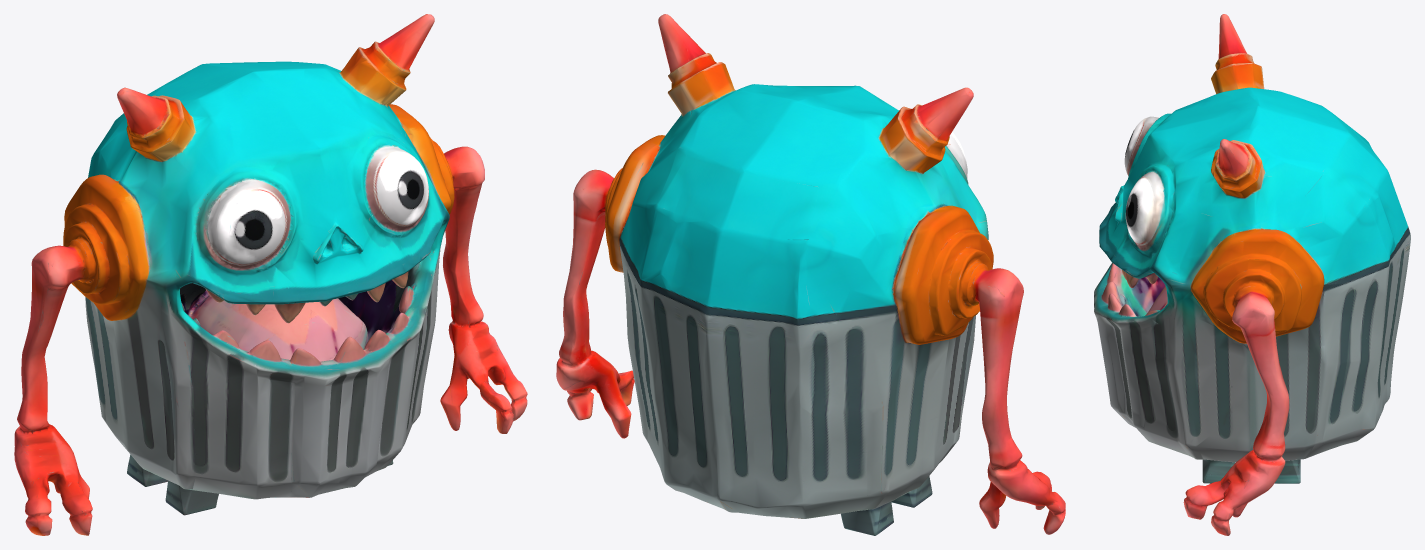
Rendered from Meshy_AI_A_cute_metal_trash_ca_0609105531_texture.fbx.
3 renders of one model, left to right at view 1: azimuth 30°, elevation 25°; view 2: azimuth 150°, elevation 25°; view 3: azimuth 270°, elevation 25°, orthographic. The views are drawn at different scales.
Visible parts, largest first — view 1: Mesh_0; view 2: Mesh_0; view 3: Mesh_0.
Part boxes in pixels (x1=…): Mesh_0: x1=14, y1=14, x2=527, y2=535; Mesh_0: x1=556, y1=14, x2=1065, y2=535; Mesh_0: x1=1094, y1=14, x2=1410, y2=535.
Size of the model in its own units: 48.53 by 40 by 31.55.
Materials: 1 (1 with a texture image).
